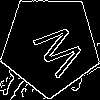W: (25, 20, 87, 85)
